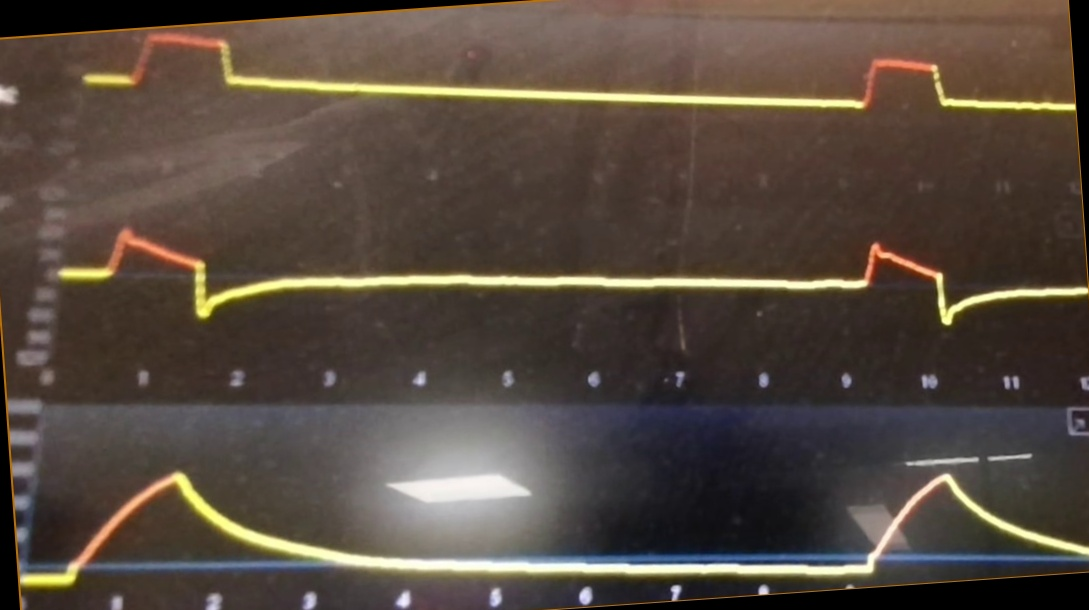Normal Flow: (62, 216, 1086, 349)
Normal Volume: (23, 428, 1089, 588)
